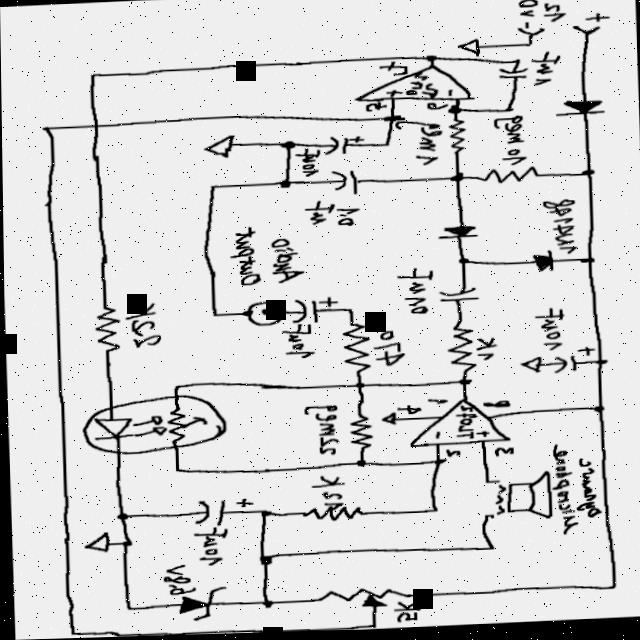capacitor: (193, 498, 256, 528), (290, 297, 340, 325), (552, 349, 597, 377), (324, 136, 366, 159), (438, 289, 482, 307), (333, 170, 361, 198), (497, 69, 532, 83)
crossover: (90, 122, 104, 130)
diode: (169, 586, 224, 625), (552, 97, 606, 122), (436, 226, 480, 243), (531, 253, 557, 276)
ground: (204, 134, 236, 160), (83, 531, 111, 555), (458, 40, 484, 59), (519, 359, 543, 377), (380, 413, 398, 428)
junction: (256, 554, 276, 568), (276, 179, 296, 191), (280, 141, 299, 152), (382, 116, 404, 125), (38, 124, 57, 134), (113, 512, 131, 522), (580, 171, 598, 181), (259, 599, 275, 610), (256, 509, 273, 519), (450, 175, 467, 185), (447, 107, 464, 117), (207, 311, 223, 321), (424, 55, 440, 65), (455, 259, 472, 268), (352, 460, 368, 469), (431, 459, 447, 468), (457, 380, 474, 388), (207, 183, 222, 192), (605, 586, 620, 595), (592, 407, 606, 416), (120, 539, 134, 548), (381, 142, 395, 151), (594, 361, 609, 369), (354, 383, 369, 391), (501, 108, 516, 116), (343, 308, 357, 316), (172, 466, 186, 474), (364, 624, 379, 631), (582, 260, 596, 267), (171, 384, 185, 391), (428, 508, 441, 515), (122, 605, 135, 612), (66, 630, 79, 637), (484, 547, 497, 553), (524, 44, 537, 50), (87, 72, 100, 78), (512, 60, 523, 67)
resistor: (310, 587, 413, 615), (340, 321, 371, 377), (91, 304, 124, 355), (447, 326, 476, 374), (479, 168, 542, 187), (300, 506, 363, 525), (347, 416, 375, 453), (446, 120, 471, 157)
terminal: (242, 300, 286, 328), (571, 26, 603, 40), (516, 28, 549, 41)
text: (297, 401, 345, 461), (537, 196, 579, 260), (396, 120, 446, 170), (551, 445, 576, 539), (227, 227, 263, 289), (267, 233, 309, 285), (575, 449, 599, 535), (123, 301, 165, 349), (491, 117, 527, 170), (191, 526, 231, 567), (533, 311, 565, 355), (402, 273, 431, 319), (309, 476, 346, 512), (281, 324, 316, 362), (530, 53, 564, 91), (374, 331, 406, 370), (161, 565, 196, 597), (405, 73, 440, 101), (304, 200, 335, 228), (296, 148, 322, 179), (454, 407, 476, 443), (393, 600, 423, 626), (377, 61, 414, 79), (517, 0, 542, 22), (476, 339, 498, 364), (335, 208, 361, 229), (543, 5, 567, 25), (481, 401, 511, 412), (398, 405, 422, 418), (365, 103, 389, 114), (585, 15, 611, 25), (427, 103, 449, 114), (493, 449, 515, 459), (442, 450, 461, 461), (385, 91, 404, 100), (427, 400, 449, 407), (473, 432, 490, 440), (432, 431, 441, 443), (447, 90, 455, 100), (523, 24, 532, 31)
